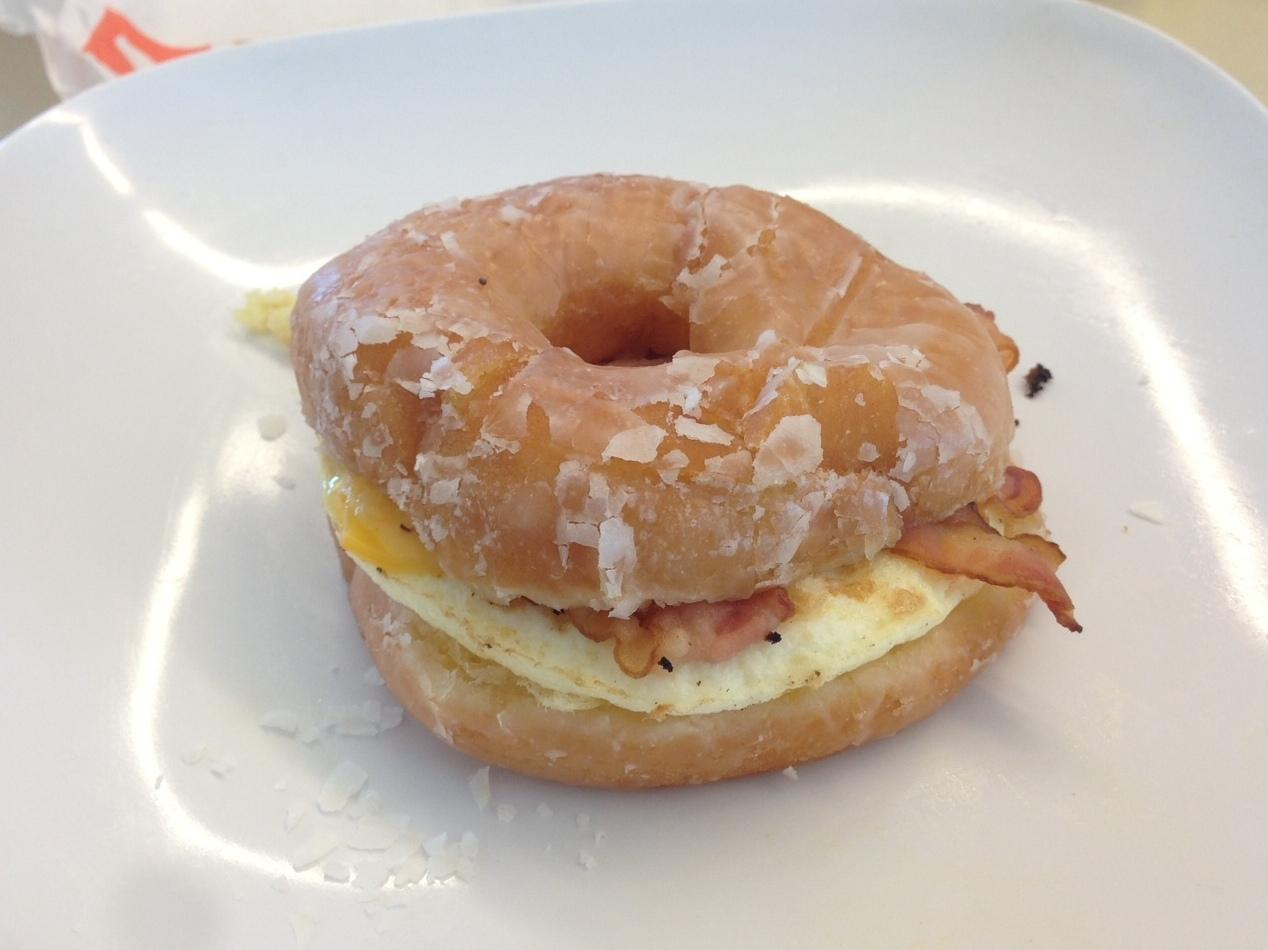bacon: (888, 493, 1121, 642)
